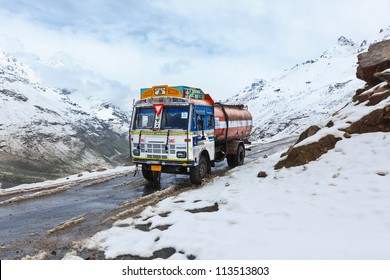truck: (129, 85, 253, 184)
